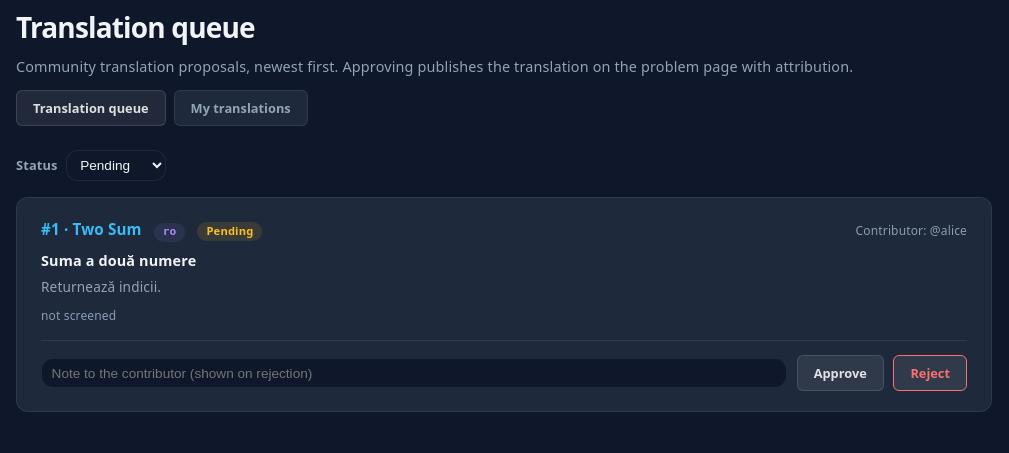
TranslationsPage › a failed decision surfaces the error line
The width and height of the screenshot is (1009, 453).
Click the button with test id "approve-btn": (840, 373) x1=797 y1=355 x2=884 y2=391
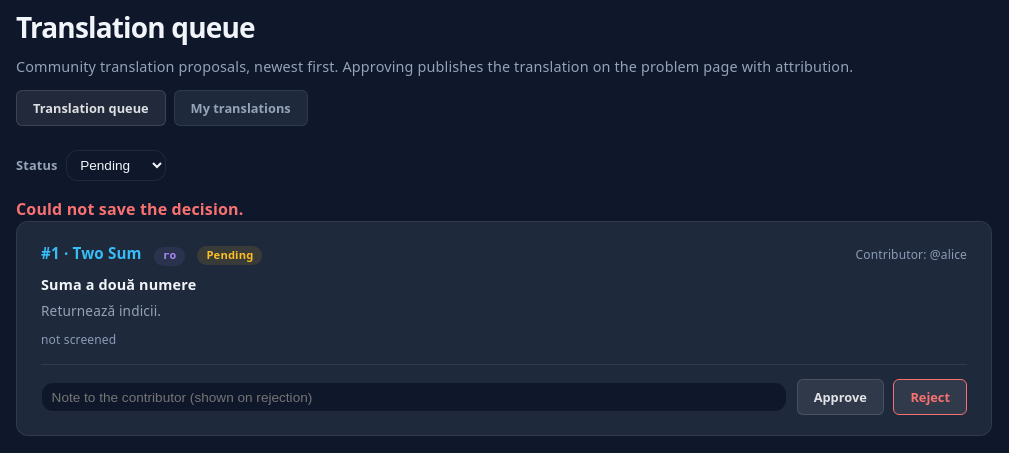
expect the text "Could not save the decision." is shown: met, box x1=16 y1=198 x2=243 y2=220
